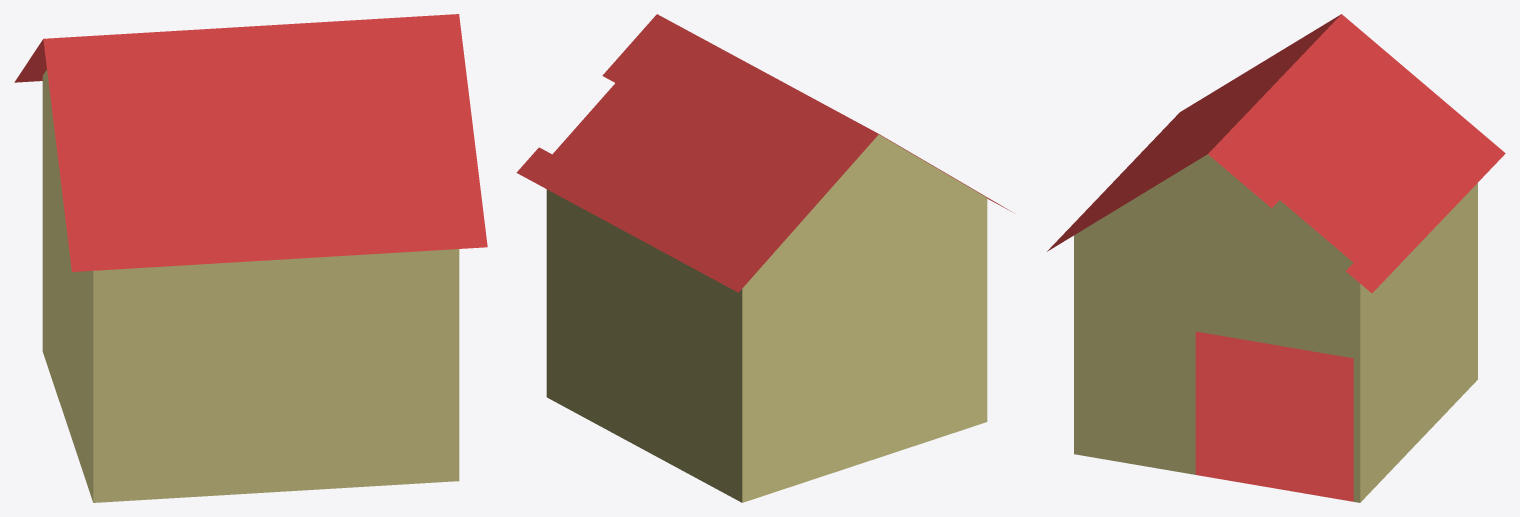
The picture shows the model from 3 angles, left to right: view 1: azimuth 30°, elevation 25°; view 2: azimuth 150°, elevation 25°; view 3: azimuth 270°, elevation 25°; orthographic projection. The views are drawn at different scales.
Bounding box in the file's own units: 16.24 × 16.12 × 12.87.
